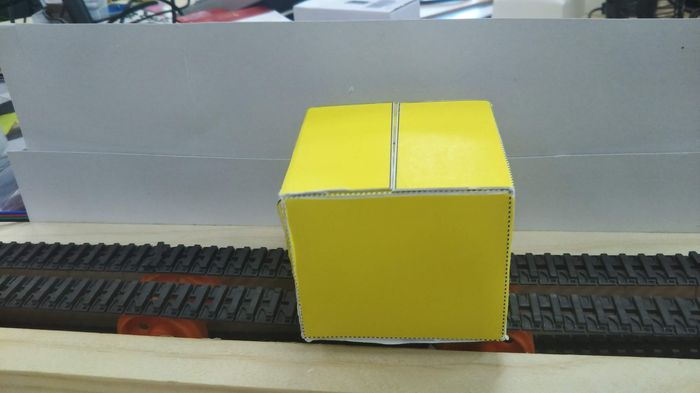box4: (272, 95, 518, 354)
